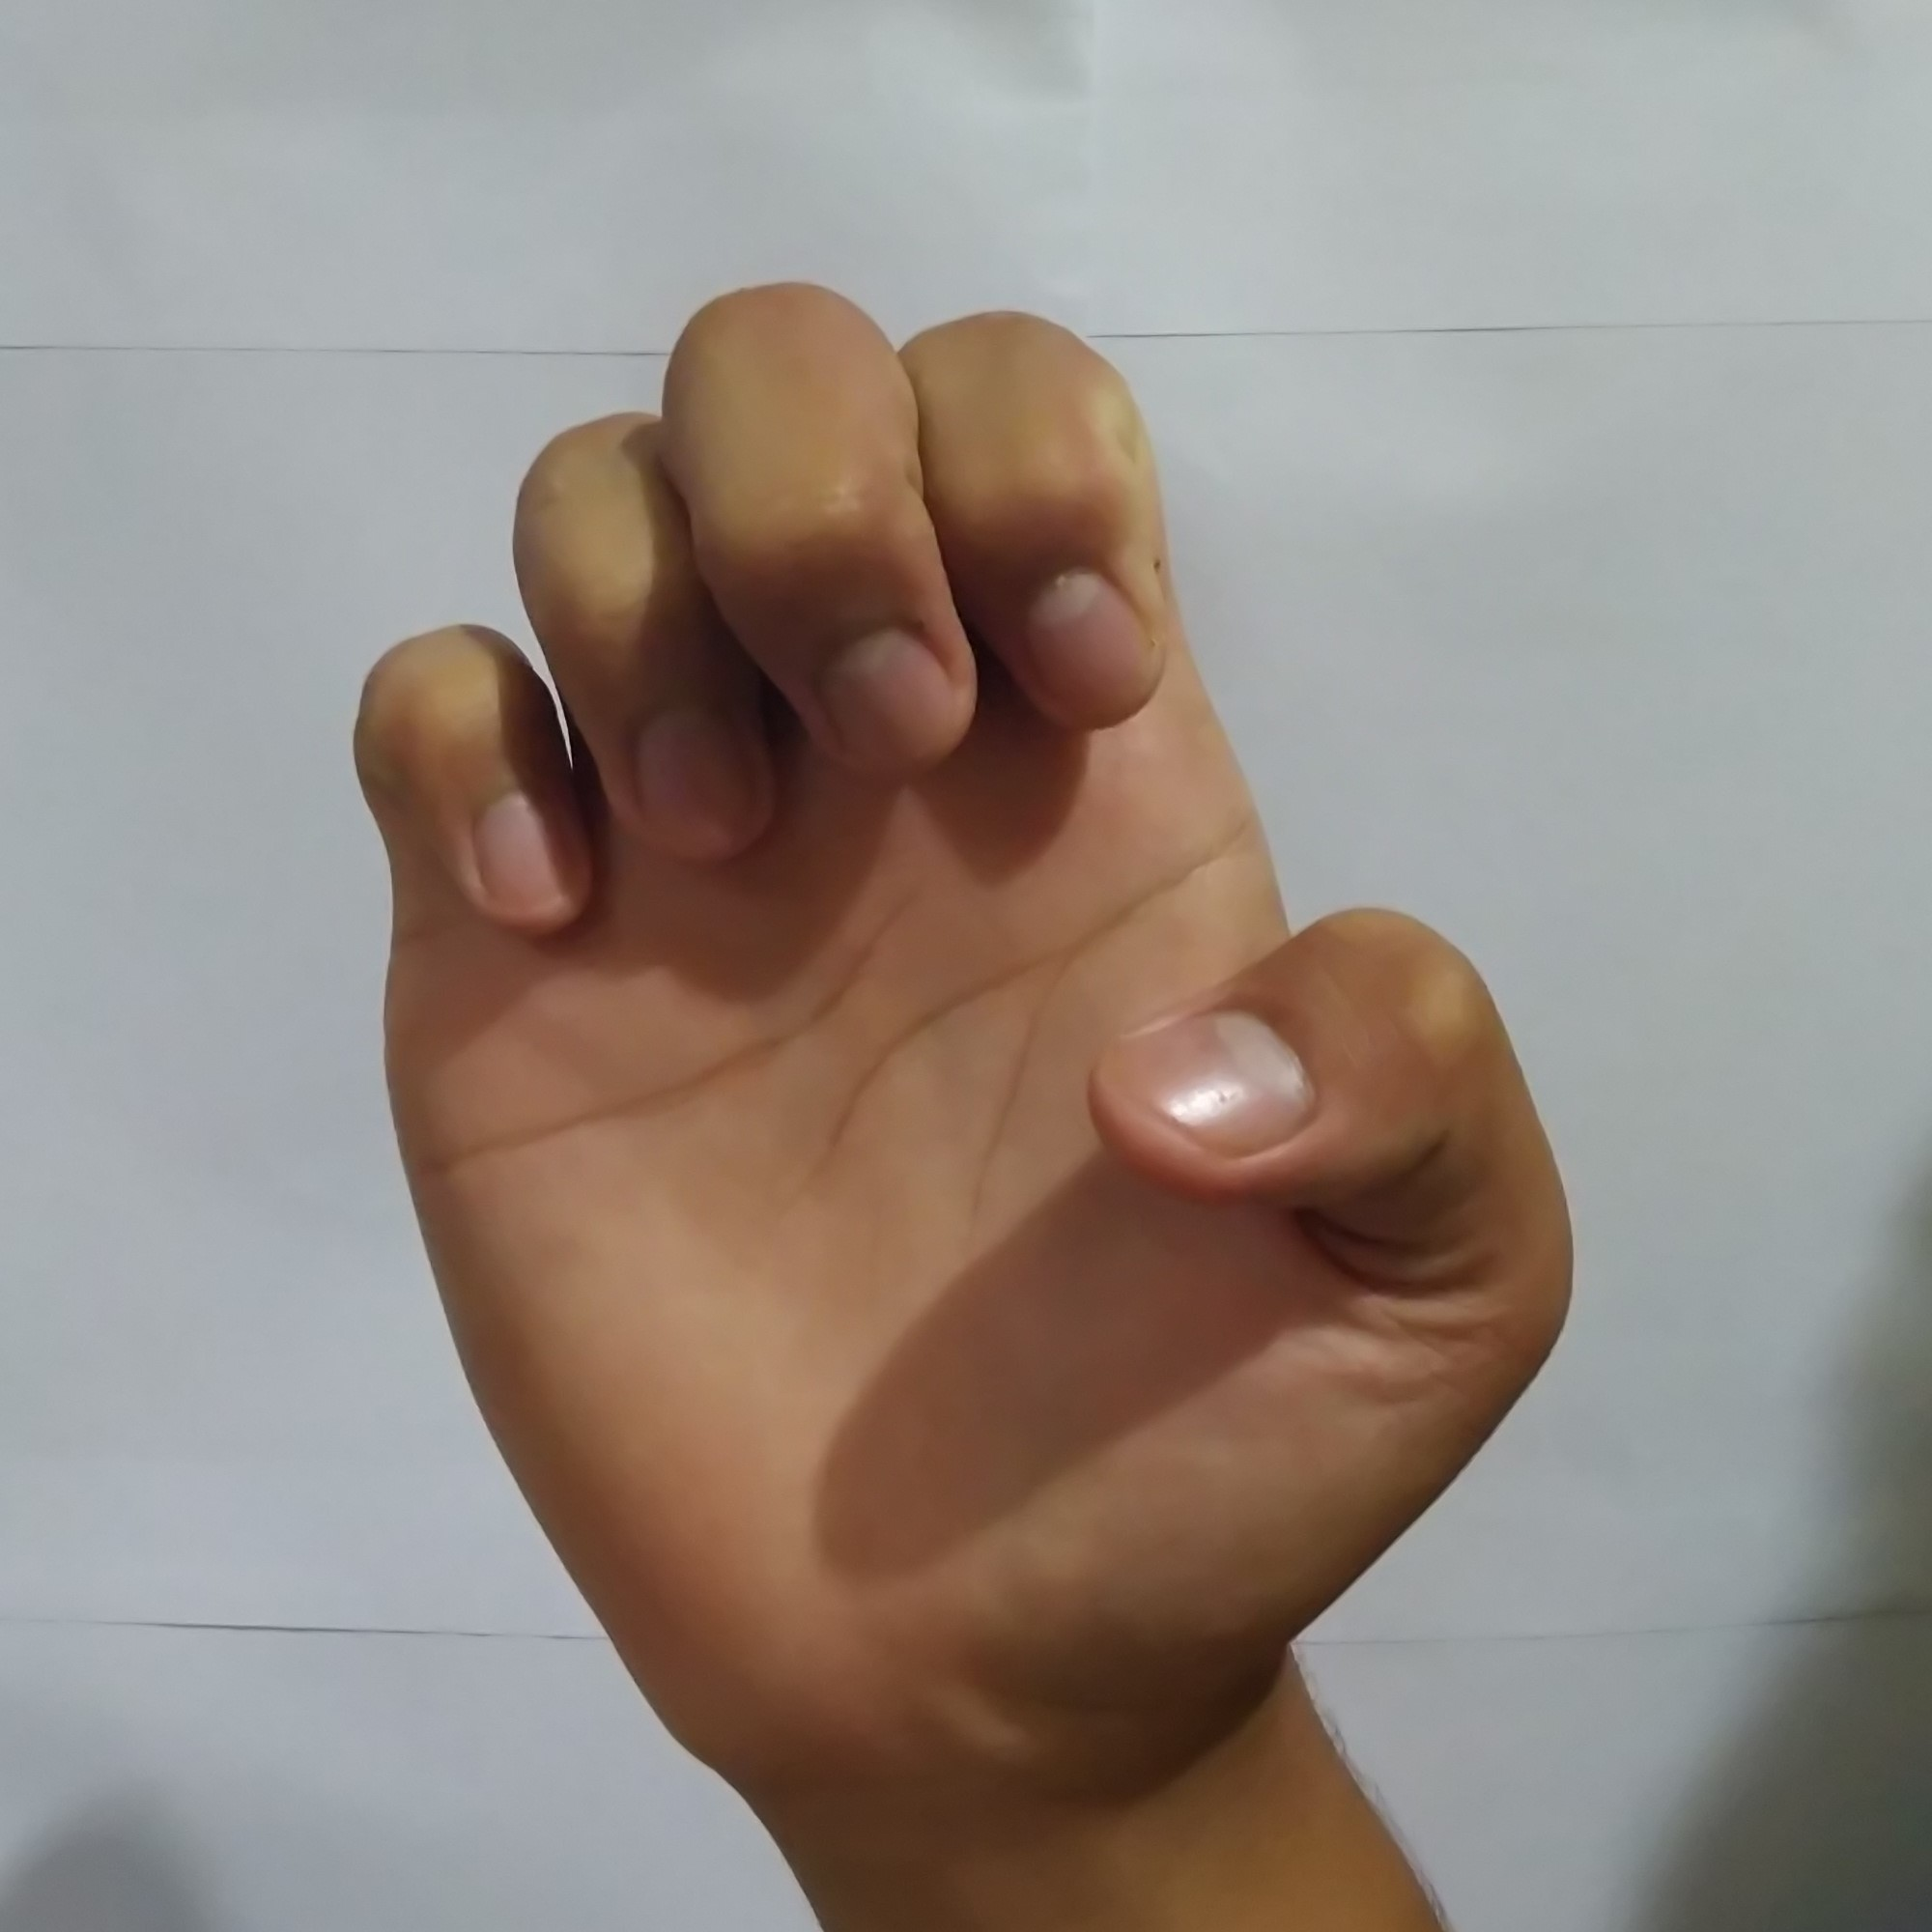E: (329, 257, 1605, 1651)
